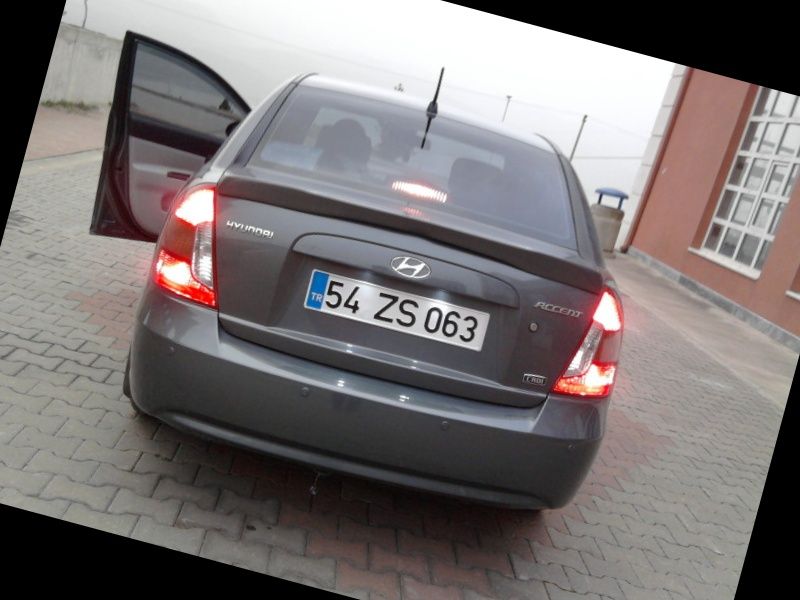plaka: (318, 269, 493, 349)
